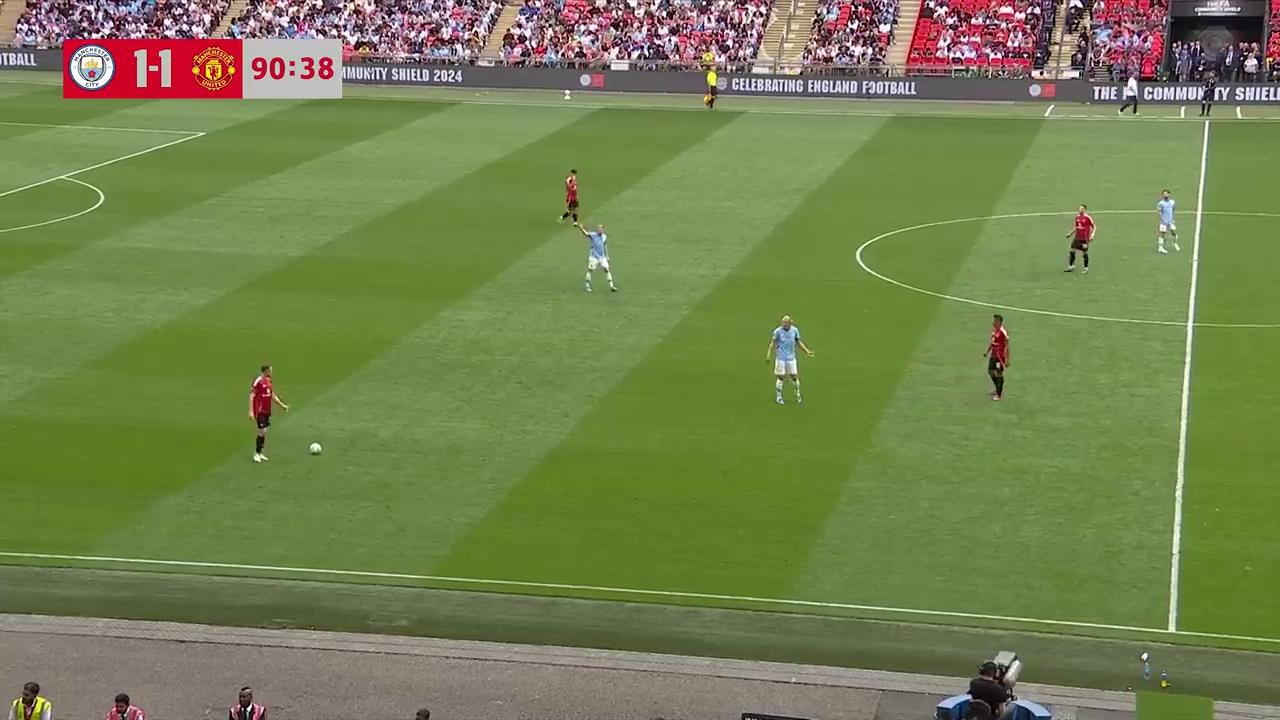ball: (308, 439, 322, 455)
player: (766, 318, 814, 405), (248, 363, 289, 462), (582, 222, 617, 292), (983, 313, 1010, 398), (1067, 204, 1096, 271), (1155, 189, 1180, 254), (558, 168, 581, 227)
referee: (703, 67, 718, 110)
